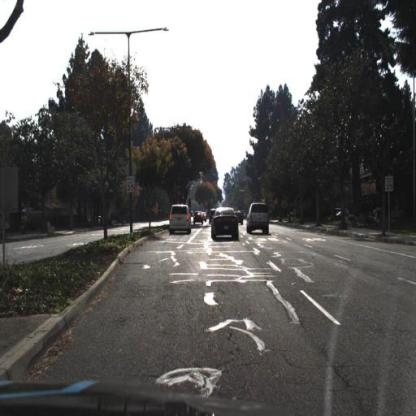car: (212, 206, 242, 241), (168, 203, 192, 236), (248, 202, 271, 236), (234, 210, 248, 226), (208, 207, 216, 226), (193, 211, 203, 226)
